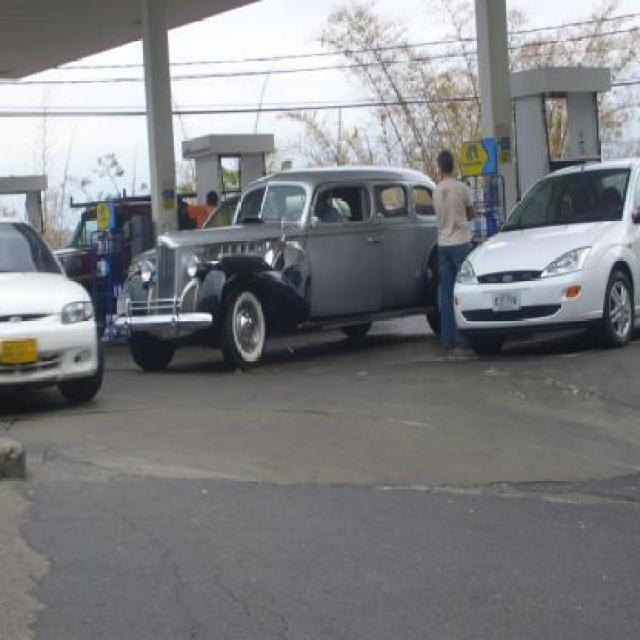License-Plates: (0, 338, 38, 364), (492, 292, 520, 311)
